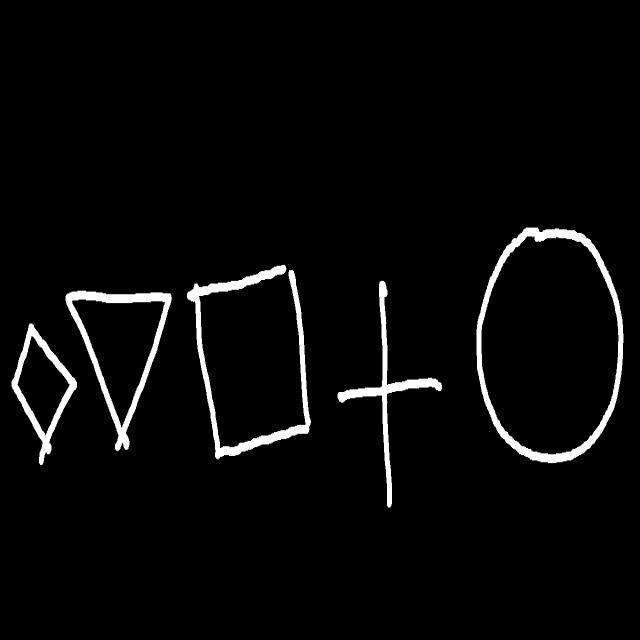circle: (476, 228, 624, 462)
cross: (338, 281, 442, 508)
diamond: (12, 324, 76, 465)
rectangle: (188, 266, 312, 459)
triangle: (66, 291, 172, 451)
